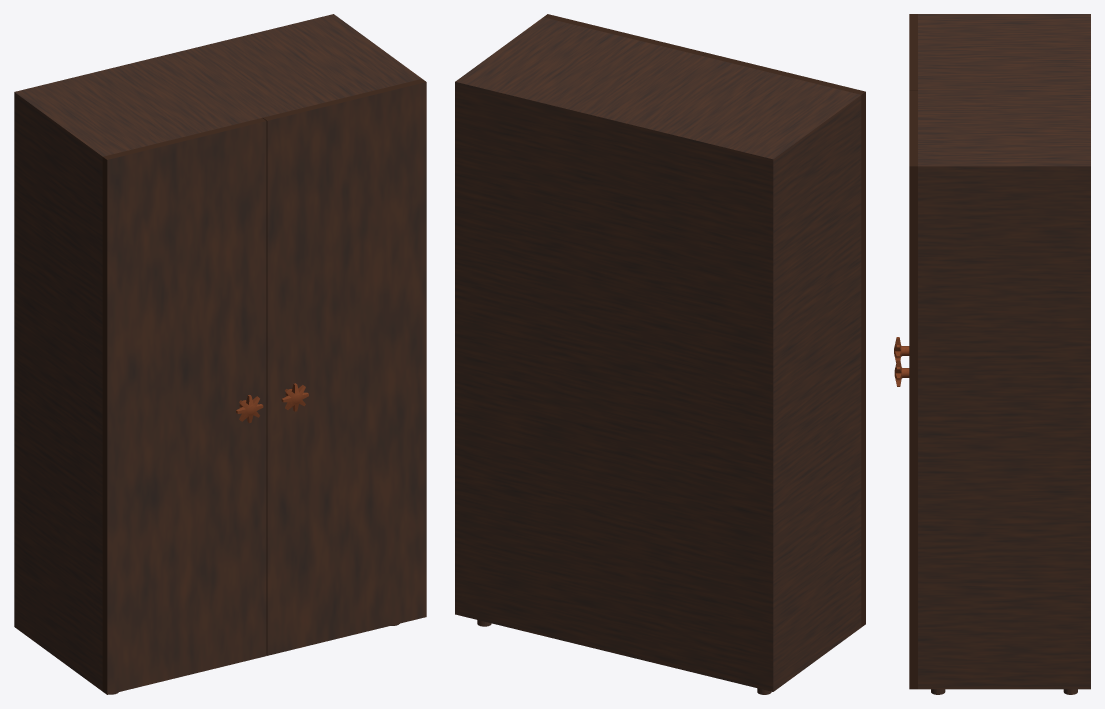
The model's file is shelf.fbx.
3 views of the same model, side by side, from view 1: azimuth 30°, elevation 25°; view 2: azimuth 150°, elevation 25°; view 3: azimuth 270°, elevation 25° (orthographic). The views are drawn at different scales.
Visible parts, largest first — view 1: DoorL, DoorR, CabinetWithShelves; view 2: CabinetWithShelves, DoorL, DoorR; view 3: CabinetWithShelves, DoorR, DoorL.
Part boxes in pixels (x1=…): DoorL: x1=102, y1=118, x2=266, y2=694; DoorR: x1=263, y1=79, x2=426, y2=655; CabinetWithShelves: x1=14, y1=14, x2=421, y2=694; CabinetWithShelves: x1=455, y1=17, x2=861, y2=694; DoorL: x1=703, y1=53, x2=865, y2=627; DoorR: x1=543, y1=14, x2=706, y2=55; CabinetWithShelves: x1=918, y1=14, x2=1090, y2=694; DoorR: x1=894, y1=90, x2=917, y2=689; DoorL: x1=894, y1=14, x2=917, y2=362.
Size of the model in its own units: 125 by 205 by 68.28.
2 materials, 2 textured.
